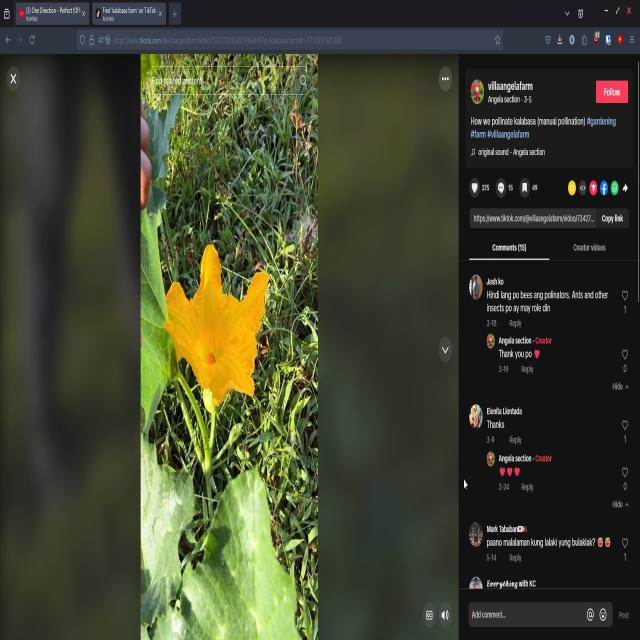flower: (167, 240, 272, 407)
